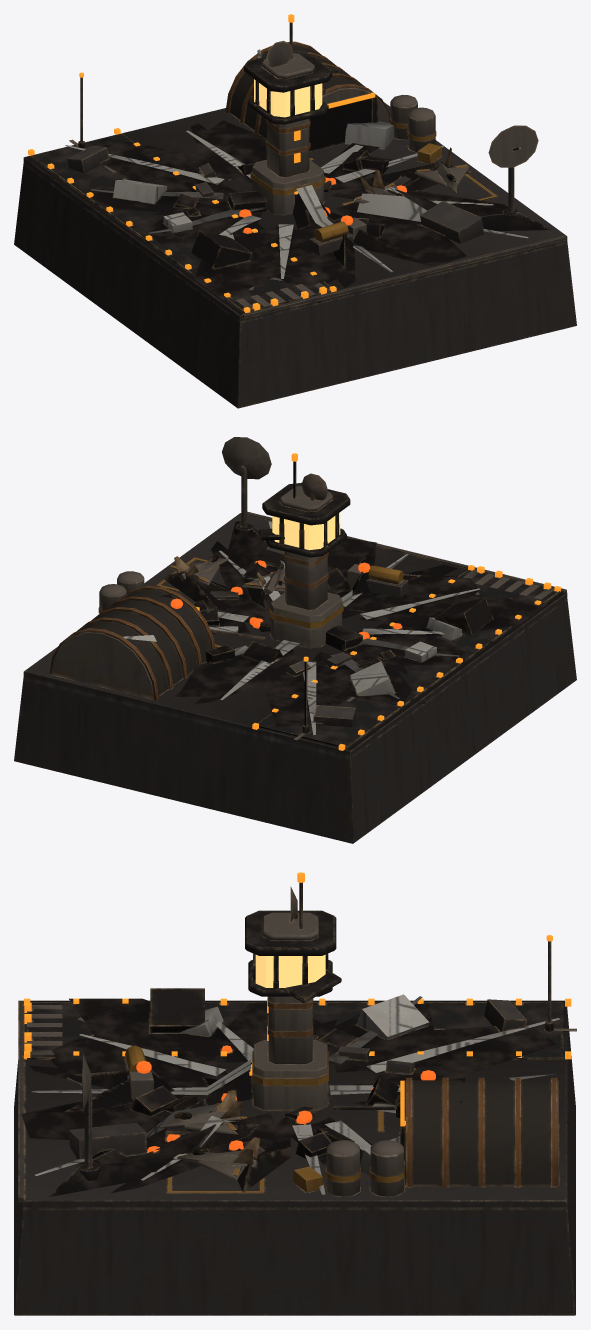
Rendered from airfield-corona.glb.
3 views of the same model, one above another, from view 1: azimuth 30°, elevation 25°; view 2: azimuth 150°, elevation 25°; view 3: azimuth 270°, elevation 25° (orthographic). The views are drawn at different scales.
Parts seen in each view (by area): view 1: site_airfield_corona_body, site_airfield_corona_ruin, site_airfield_corona_core; view 2: site_airfield_corona_body, site_airfield_corona_ruin, site_airfield_corona_core; view 3: site_airfield_corona_body, site_airfield_corona_ruin, site_airfield_corona_core.
Boxes of the visible parts, <box> form: site_airfield_corona_body: <box>14,41,576,408</box>; site_airfield_corona_ruin: <box>65,49,551,302</box>; site_airfield_corona_core: <box>244,14,332,124</box>; site_airfield_corona_body: <box>14,437,576,843</box>; site_airfield_corona_ruin: <box>121,521,547,735</box>; site_airfield_corona_core: <box>262,453,350,557</box>; site_airfield_corona_body: <box>14,935,576,1315</box>; site_airfield_corona_ruin: <box>21,953,569,1206</box>; site_airfield_corona_core: <box>245,872,336,996</box>.
Size of the model in its own units: 5.6 by 4.23 by 6.41.
4 materials, 1 textured.
